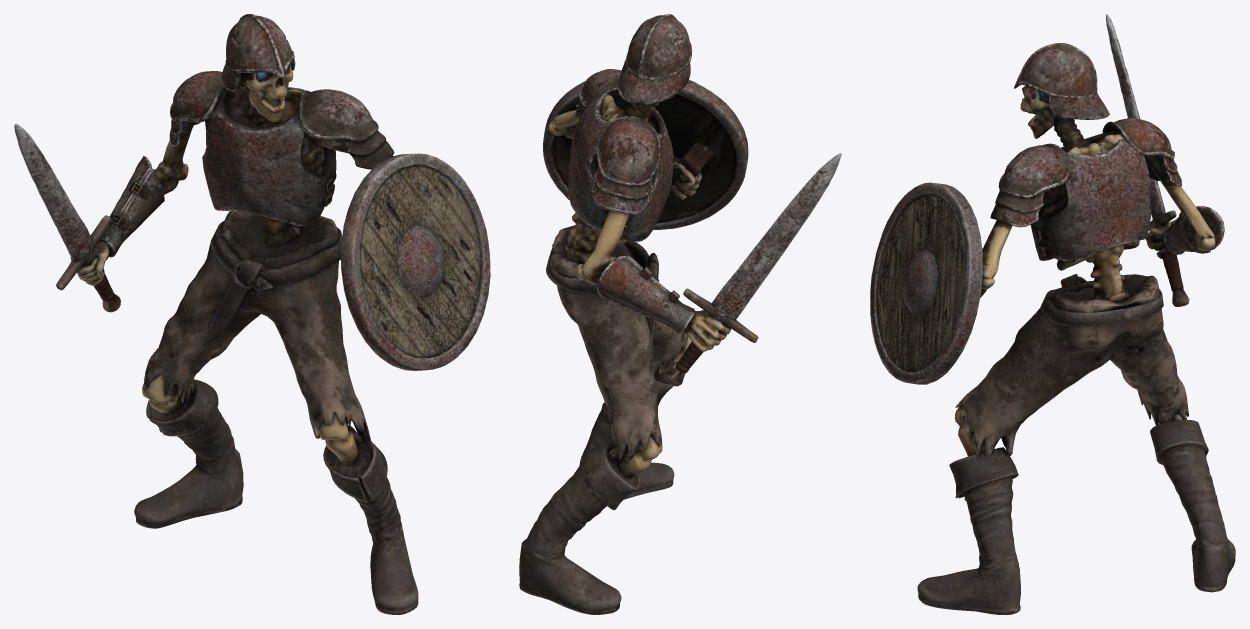
The model's file is MZ4250 - Skeleton_melee 2025.glb.
3 views of the same model, side by side, from view 1: azimuth 30°, elevation 25°; view 2: azimuth 150°, elevation 25°; view 3: azimuth 270°, elevation 25° (orthographic). The views are drawn at different scales.
Visible parts, largest first — view 1: Skeleman.001; view 2: Skeleman.001; view 3: Skeleman.001.
Part boxes in pixels (box(x1,y1,x2,y2)): Skeleman.001: box(14, 14, 490, 614); Skeleman.001: box(519, 14, 841, 614); Skeleman.001: box(870, 14, 1235, 614).
Size of the model in its own units: 62.1 by 84.58 by 53.78.
Materials: 2 (2 with a texture image).
